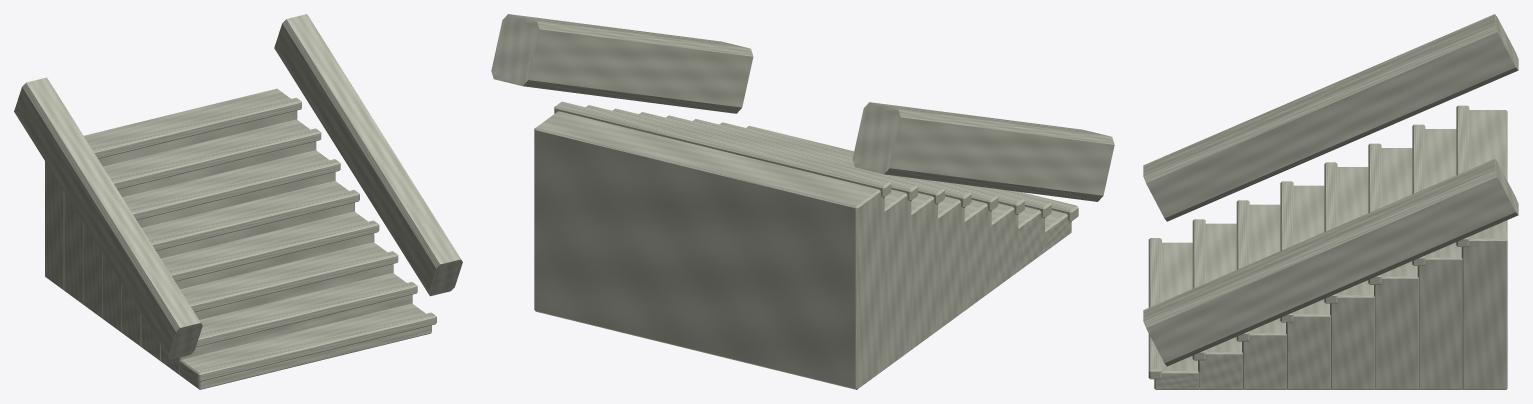
Rendered from terrace_stairs.glb.
3 views of the same model, side by side, from view 1: azimuth 30°, elevation 25°; view 2: azimuth 150°, elevation 25°; view 3: azimuth 270°, elevation 25° (orthographic). The views are drawn at different scales.
Parts seen in each view (by area): view 1: terrace_stairs_Structure, terrace_stairs_Joinery; view 2: terrace_stairs_Structure, terrace_stairs_Joinery; view 3: terrace_stairs_Structure, terrace_stairs_Joinery.
Boxes of the visible parts, x1,y1,x2,y2 form: terrace_stairs_Structure: (45,88,436,389); terrace_stairs_Joinery: (14,14,462,359); terrace_stairs_Structure: (534,101,1078,389); terrace_stairs_Joinery: (491,14,1114,201); terrace_stairs_Structure: (1148,105,1507,389); terrace_stairs_Joinery: (1143,14,1518,366).
Size of the model in its own units: 3.44 by 2.35 by 3.41.
Materials: 1 (1 with a texture image).
